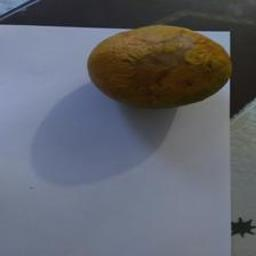Orange Semirotten: (74, 13, 256, 122)
